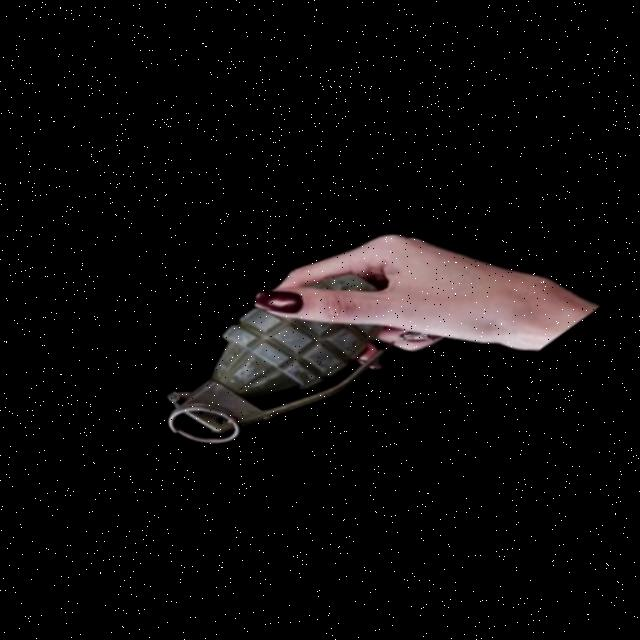grenade: (138, 223, 427, 469)
